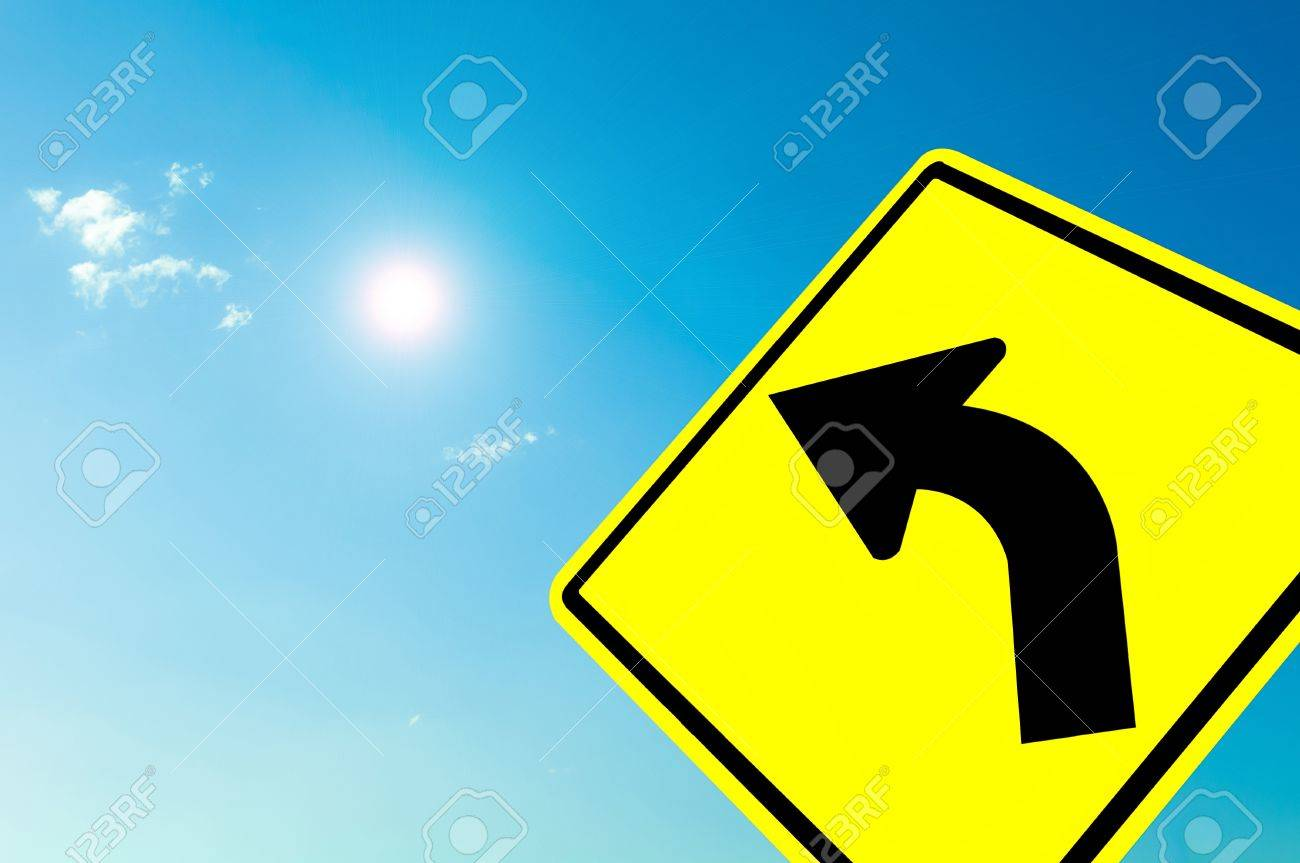left: (544, 150, 1300, 858)
